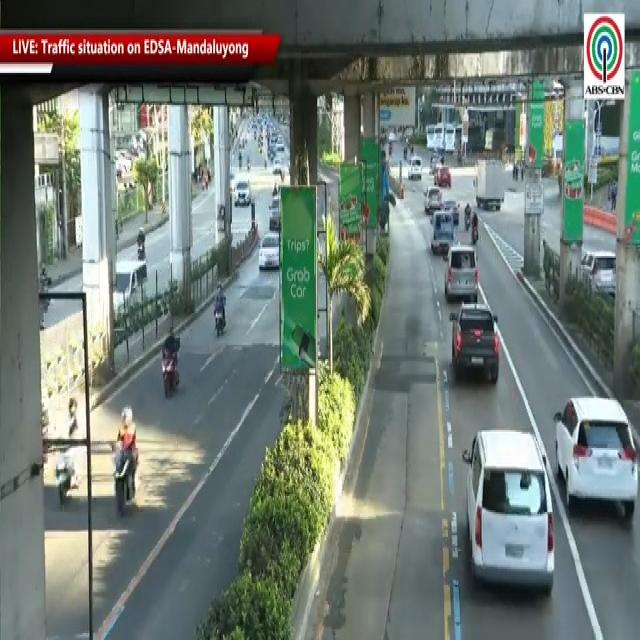car: (459, 423, 554, 601), (551, 384, 640, 519), (449, 302, 507, 391), (444, 247, 481, 306), (430, 210, 458, 261), (257, 230, 282, 278), (232, 174, 253, 213), (423, 185, 445, 215)
motorbike: (106, 405, 136, 507), (50, 398, 76, 508), (161, 325, 179, 392), (212, 280, 228, 342), (131, 228, 145, 262), (470, 211, 480, 251), (464, 200, 472, 228)
truck: (472, 154, 504, 211)
